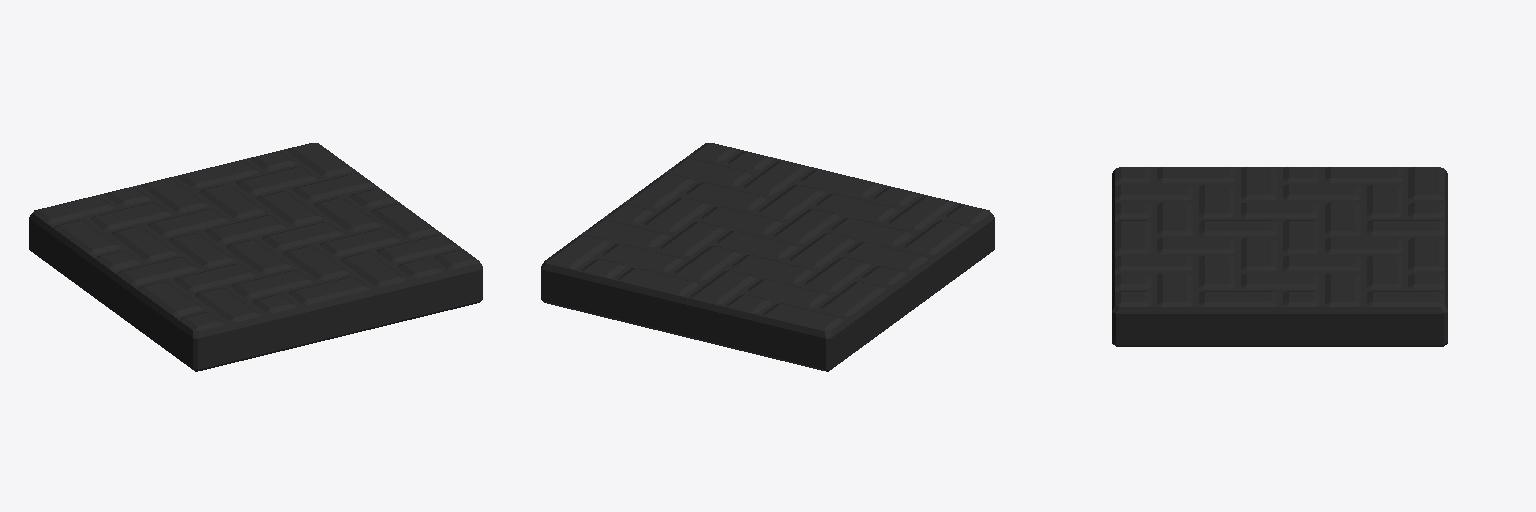
Rendered from tile.obj.
3 renders of one model, left to right at view 1: azimuth 30°, elevation 25°; view 2: azimuth 150°, elevation 25°; view 3: azimuth 270°, elevation 25°, orthographic.
Visible parts, largest first — view 1: Tile; view 2: Tile; view 3: Tile.
Boxes of the visible parts, box(x1,y1,x2,y2) form: Tile: box(29, 143, 482, 371); Tile: box(541, 143, 994, 371); Tile: box(1112, 167, 1447, 346).
Size of the model in its own units: 2 by 0.2812 by 2.